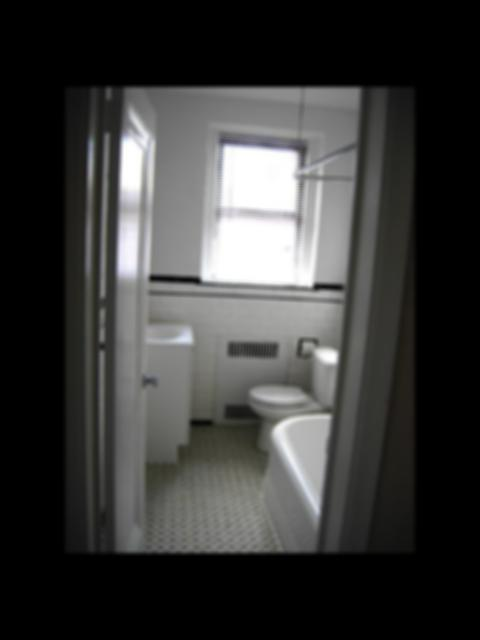Lavamanos: (126, 313, 194, 469)
Sanitario: (253, 339, 340, 455)
